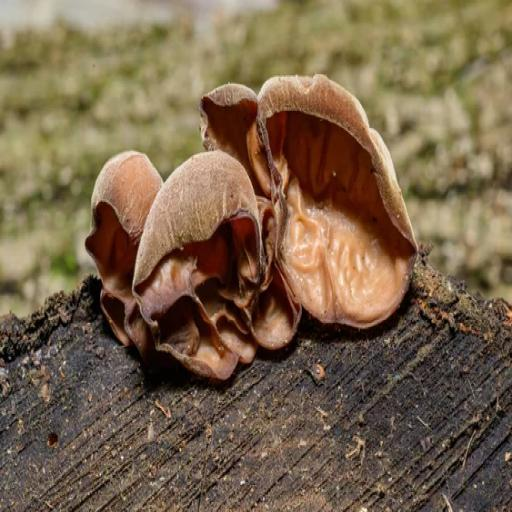mushroom: (241, 63, 419, 333), (133, 150, 301, 380), (77, 138, 160, 343), (195, 69, 264, 169)
